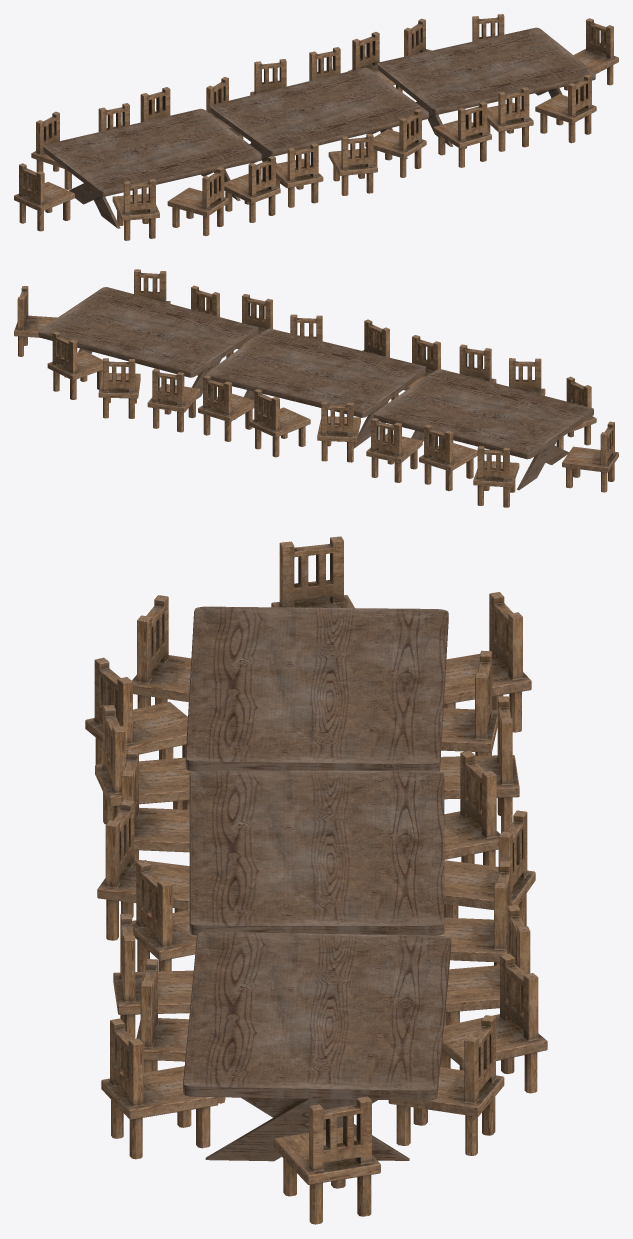
File: Tabble_Set_Long.fbx
3 views of the same model, one above another, from view 1: azimuth 30°, elevation 25°; view 2: azimuth 150°, elevation 25°; view 3: azimuth 270°, elevation 25° (orthographic). The views are drawn at different scales.
Parts seen in each view (by area): view 1: MainHall_Table_6.002; view 2: MainHall_Table_6.002; view 3: MainHall_Table_6.002.
Part boxes in pixels (left/top/right/bottom): MainHall_Table_6.002: left=14, top=14, right=618, bottom=240; MainHall_Table_6.002: left=14, top=269, right=618, bottom=507; MainHall_Table_6.002: left=85, top=536, right=547, bottom=1224.
Size of the model in its own units: 1206 by 111 by 405.
